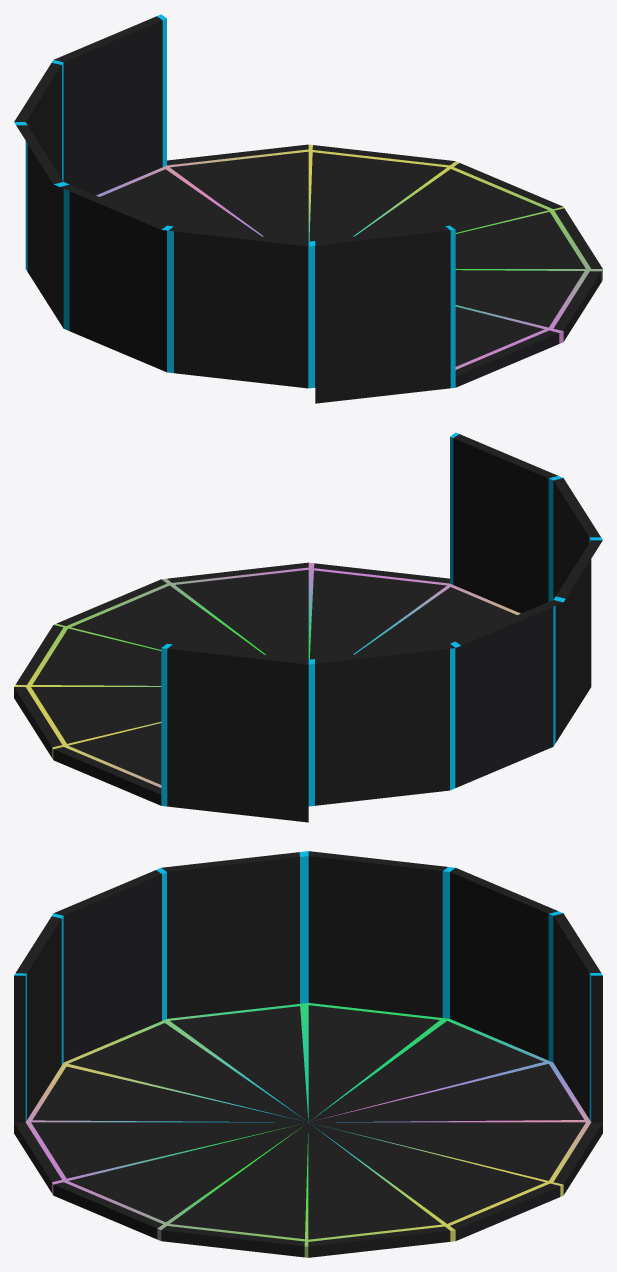
3 renders of one model, top to bottom at view 1: azimuth 30°, elevation 25°; view 2: azimuth 150°, elevation 25°; view 3: azimuth 270°, elevation 25°, orthographic.
Parts seen in each view (by area): view 1: base; view 2: base; view 3: base.
Part boxes in pixels (bbox=[...]): base: bbox=[14, 14, 602, 403]; base: bbox=[14, 432, 602, 822]; base: bbox=[14, 851, 602, 1257].
Size of the model in its own units: 10197 by 3016 by 10197.
1 material, 1 textured.
